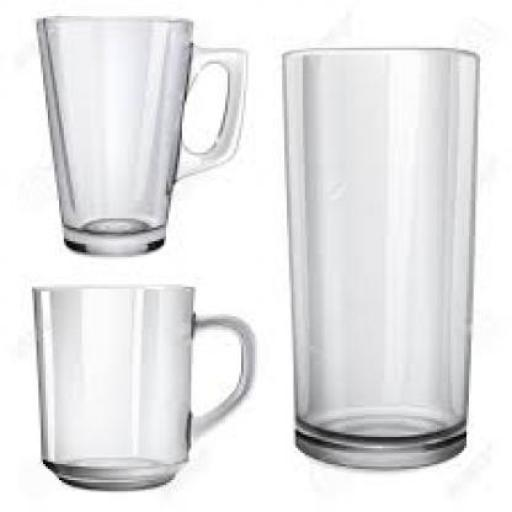glass: (280, 46, 478, 466), (32, 14, 246, 252), (31, 285, 253, 489)
